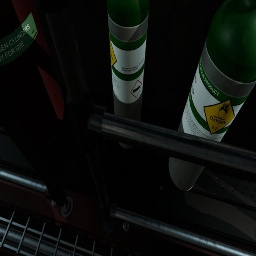0: (168, 0, 256, 191), (107, 0, 150, 149)
NitrogenTank ,: (0, 0, 78, 187)
